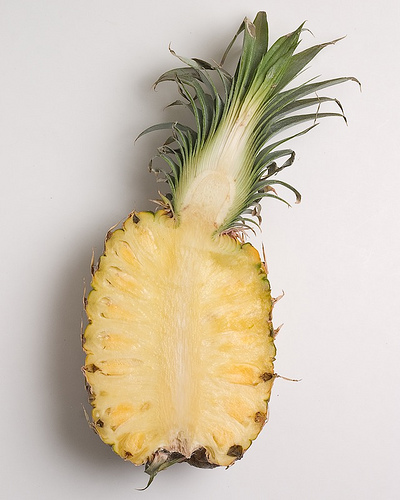pineapple: (78, 10, 362, 492)
